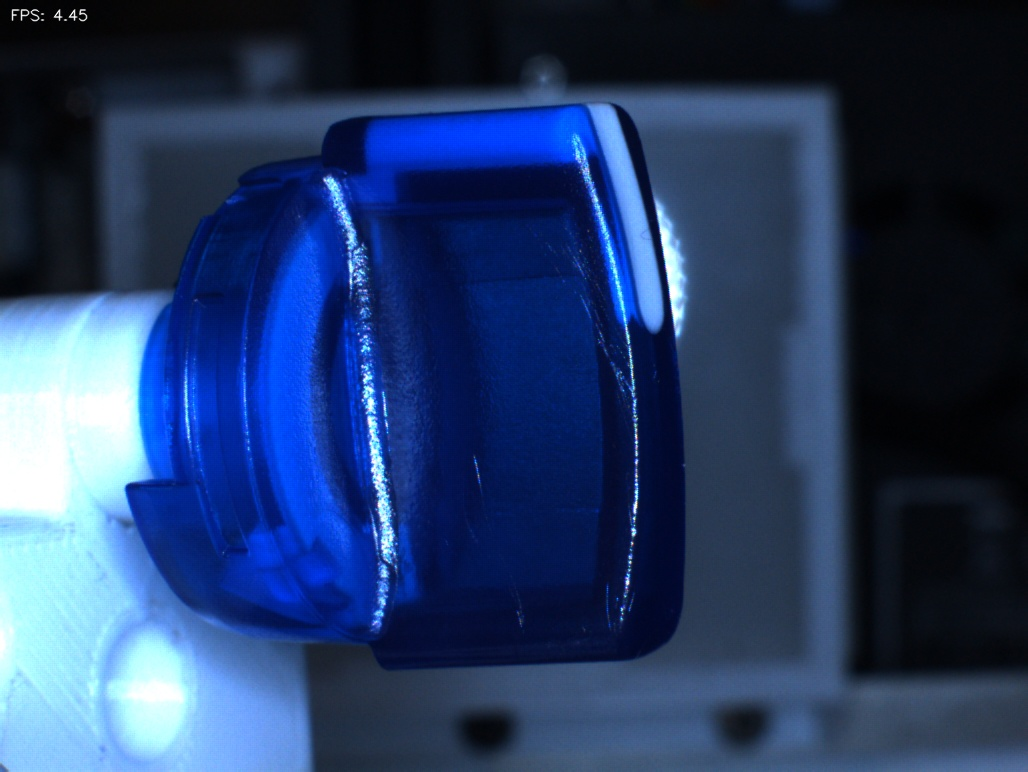Givrage: (536, 216, 641, 412), (448, 446, 541, 644), (581, 555, 658, 650)
